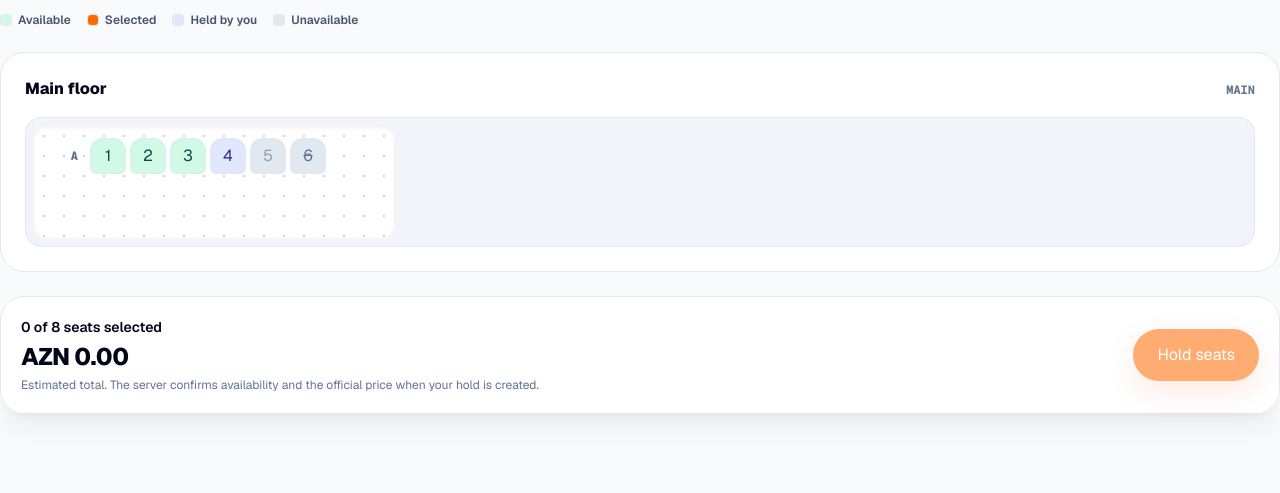
Test case: Phase 4A selectable coordinate seat map › renders server conflict feedback without clearing the selected seats
Click the button named "seat 2, premium: available". click: {"x": 148, "y": 156}
box: [130,138,166,174]
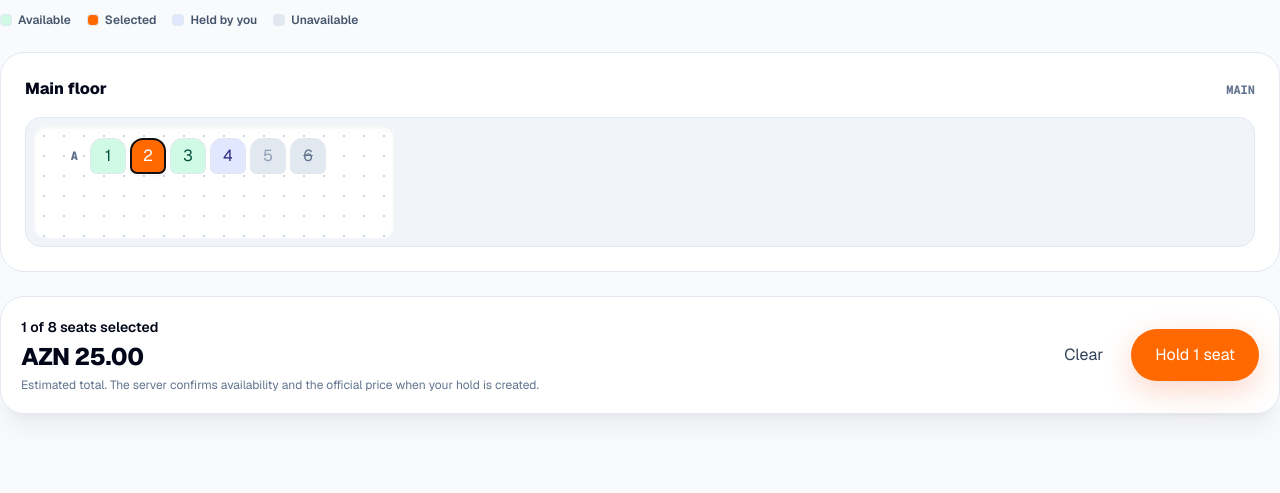
Click the button "Hold 1 seat". click: {"x": 1195, "y": 355}
box: [1131,329,1259,381]
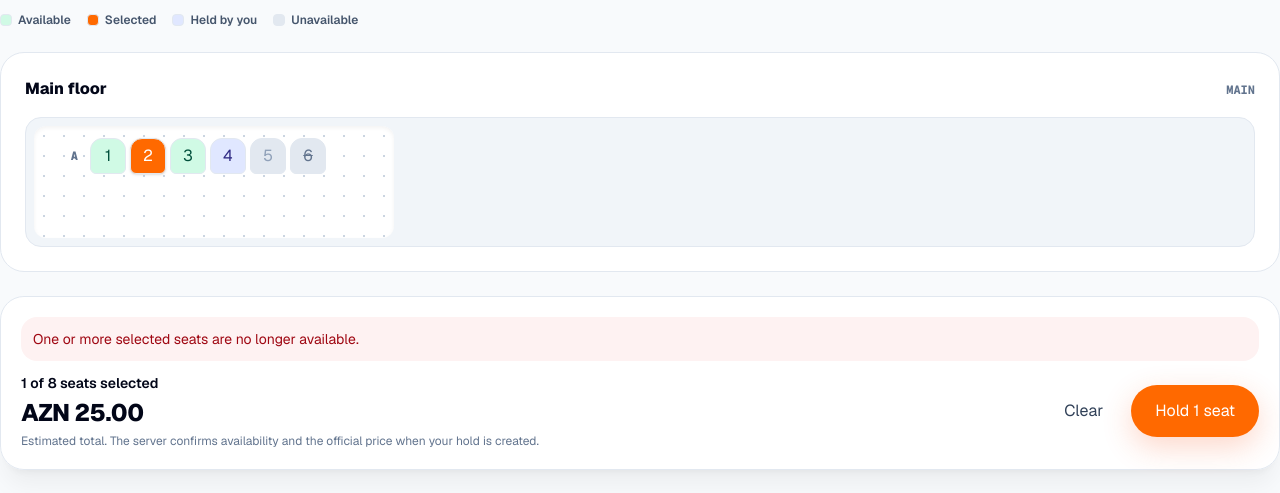
Check: the text "1 of 8 seats selected" is shown, box [21,374,158,392]
Check: the message shows "no longer available", box [33,330,359,348]
